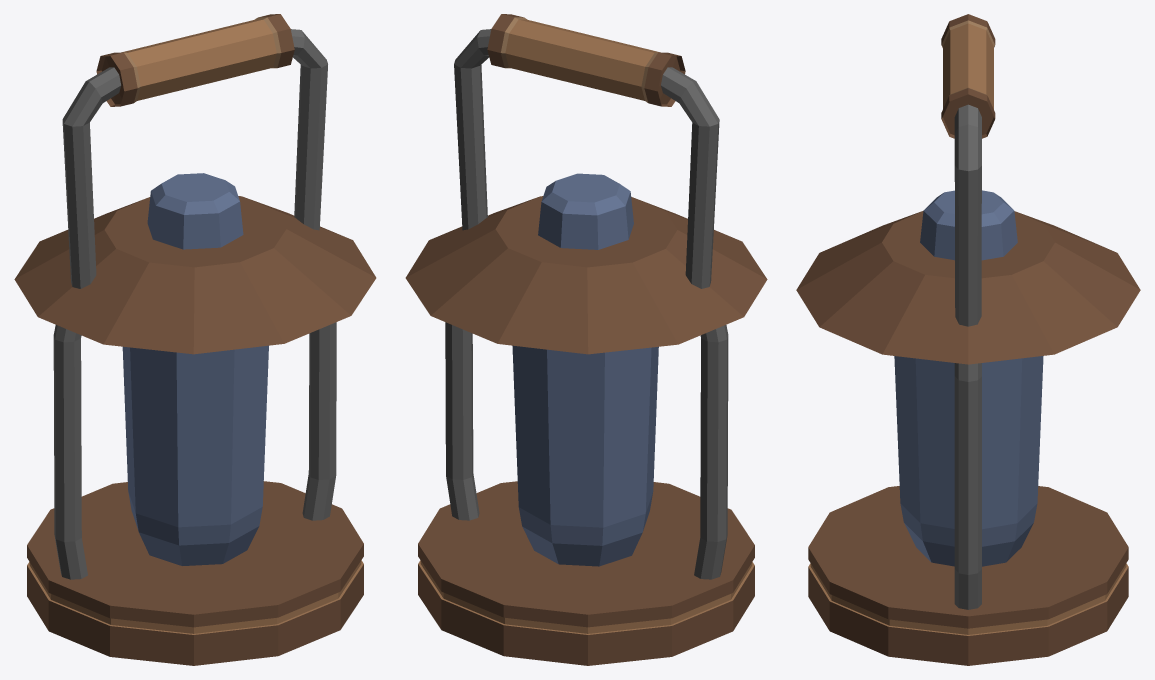
Rendered from FarolDeMano.fbx.
The picture shows the model from 3 angles, left to right: view 1: azimuth 30°, elevation 25°; view 2: azimuth 150°, elevation 25°; view 3: azimuth 270°, elevation 25°; orthographic projection. The views are drawn at different scales.
Visible parts, largest first — view 1: Cylinder, Cylinder.002, Cylinder.003; view 2: Cylinder, Cylinder.002, Cylinder.003; view 3: Cylinder, Cylinder.002, Cylinder.003.
Boxes of the visible parts, <box> form: Cylinder: <box>14,196,376,665</box>; Cylinder.002: <box>122,173,268,565</box>; Cylinder.003: <box>53,14,336,579</box>; Cylinder: <box>405,196,767,665</box>; Cylinder.002: <box>512,173,658,566</box>; Cylinder.003: <box>445,14,728,579</box>; Cylinder: <box>796,211,1140,665</box>; Cylinder.002: <box>894,190,1043,566</box>; Cylinder.003: <box>941,14,995,609</box>.
Bounding box in the file's own units: 1.89 × 3.21 × 1.85.
